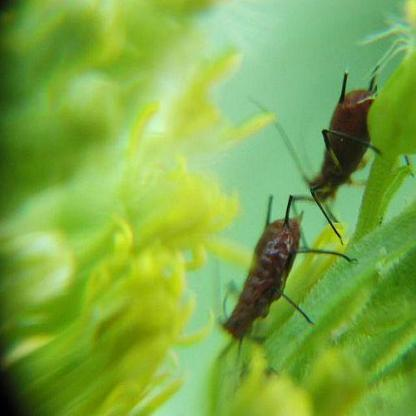aphid: (213, 198, 353, 341), (286, 60, 384, 243)
